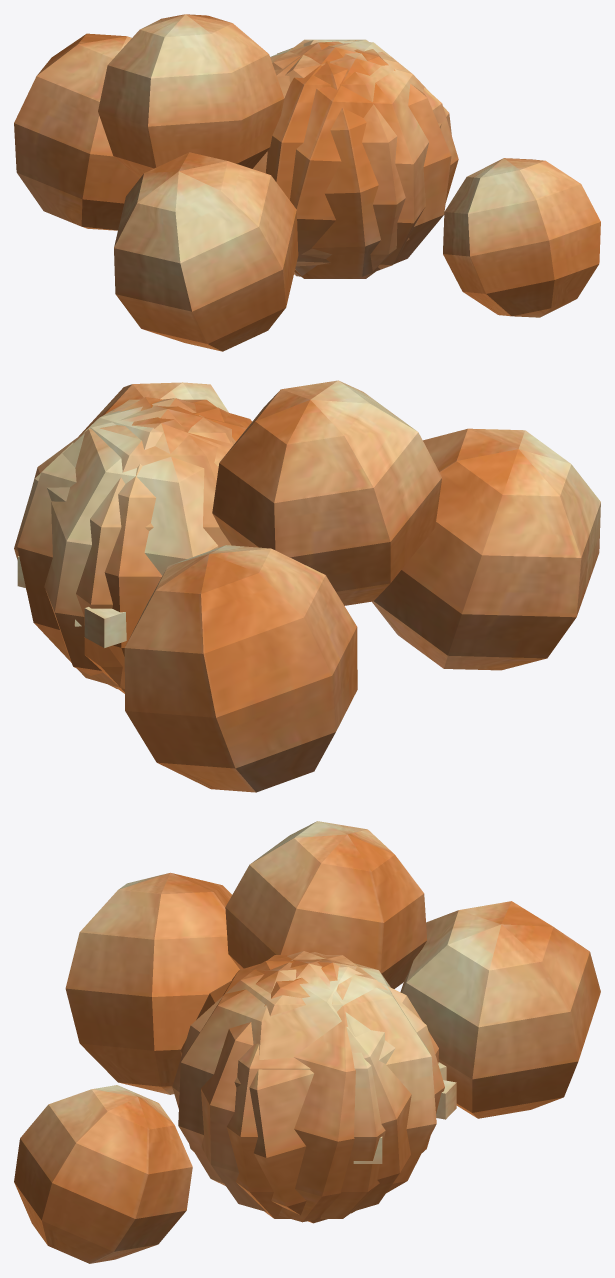
File: onion.fbx
The picture shows the model from 3 angles, top to bottom: view 1: azimuth 30°, elevation 25°; view 2: azimuth 150°, elevation 25°; view 3: azimuth 270°, elevation 25°; orthographic projection. The views are drawn at different scales.
Visible parts, largest first — view 1: onion (0.5 kg fresh), onion (1 kg fresh), onion (1 fresh); view 2: onion (1 kg fresh), onion (0.5 kg fresh), onion (1 fresh), onion (pieces fresh); view 3: onion (0.5 kg fresh), onion (1 kg fresh), onion (1 fresh), onion (pieces fresh).
Part boxes in pixels (x1,y1,x2,y2): onion (0.5 kg fresh): (114, 40, 600, 351); onion (1 kg fresh): (14, 14, 458, 278); onion (1 fresh): (253, 40, 451, 278); onion (1 kg fresh): (14, 380, 442, 792); onion (0.5 kg fresh): (17, 382, 600, 688); onion (1 fresh): (33, 397, 234, 688); onion (pieces fresh): (17, 556, 126, 647); onion (0.5 kg fresh): (14, 872, 438, 1263); onion (1 kg fresh): (172, 821, 600, 1218); onion (1 fresh): (180, 952, 436, 1222); onion (pieces fresh): (353, 1062, 456, 1163).
Bounding box in the file's own units: 408 × 247 × 430.
Materials: 14 (14 with a texture image).
